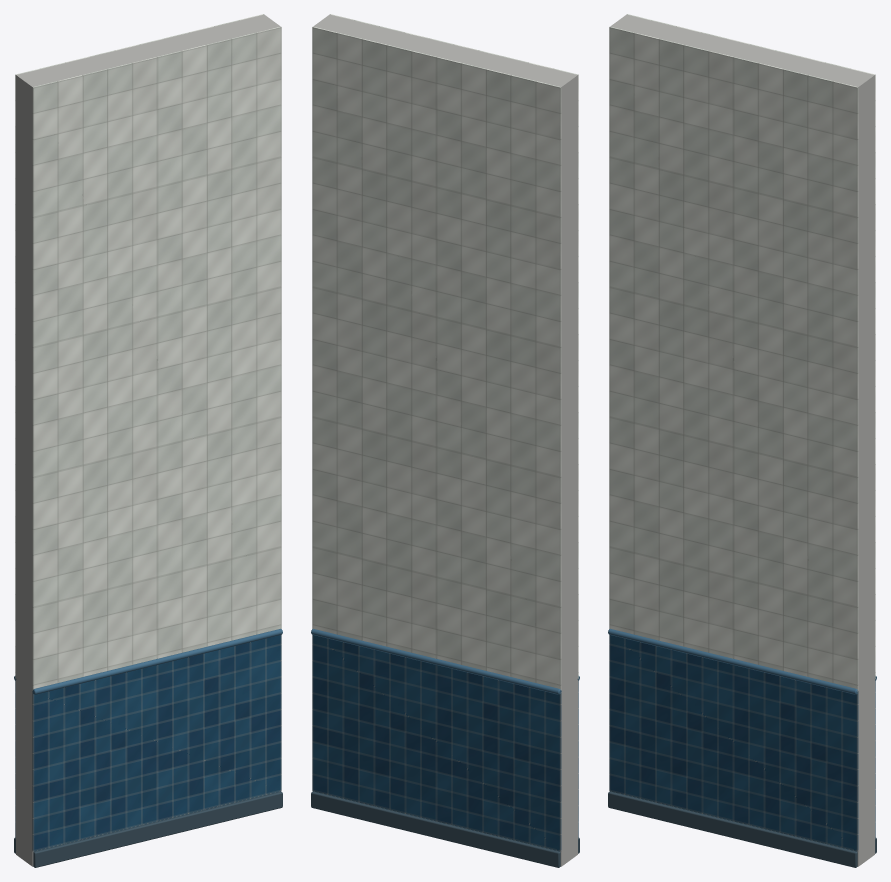
File: tile_wall_module.glb
3 views of the same model, side by side, from view 1: azimuth 30°, elevation 25°; view 2: azimuth 150°, elevation 25°; view 3: azimuth 330°, elevation 25° (orthographic).
Parts seen in each view (by area): view 1: TileWall; view 2: TileWall; view 3: TileWall.
Part boxes in pixels (<box>): TileWall: <box>14,14,282,867</box>; TileWall: <box>311,14,579,867</box>; TileWall: <box>608,14,876,867</box>.
Size of the model in its own units: 2 by 6 by 0.2981.
Materials: 5 (2 with a texture image).
